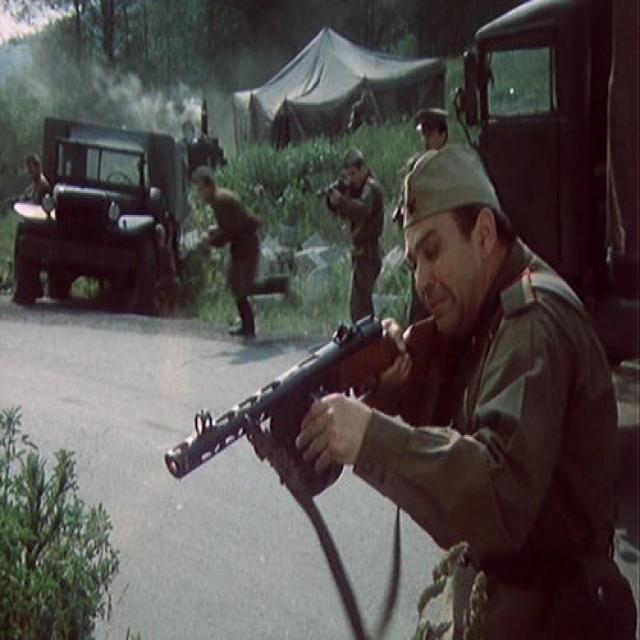rifle: (157, 317, 445, 517)
